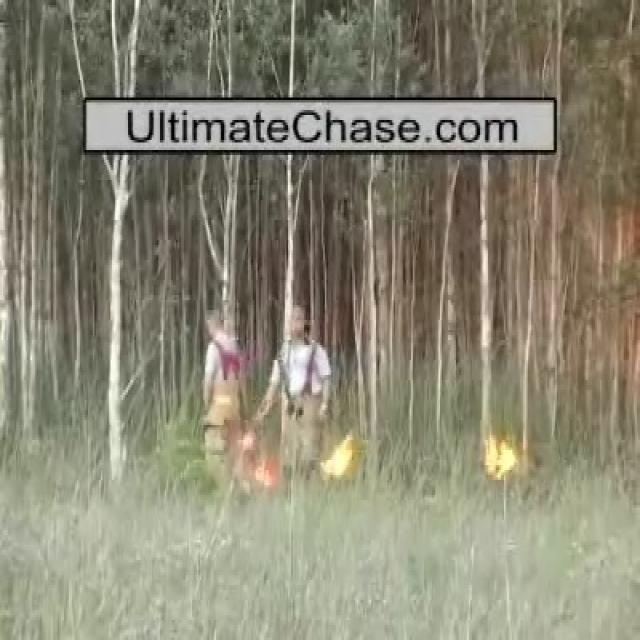fire: (320, 432, 354, 481), (484, 432, 516, 482)
